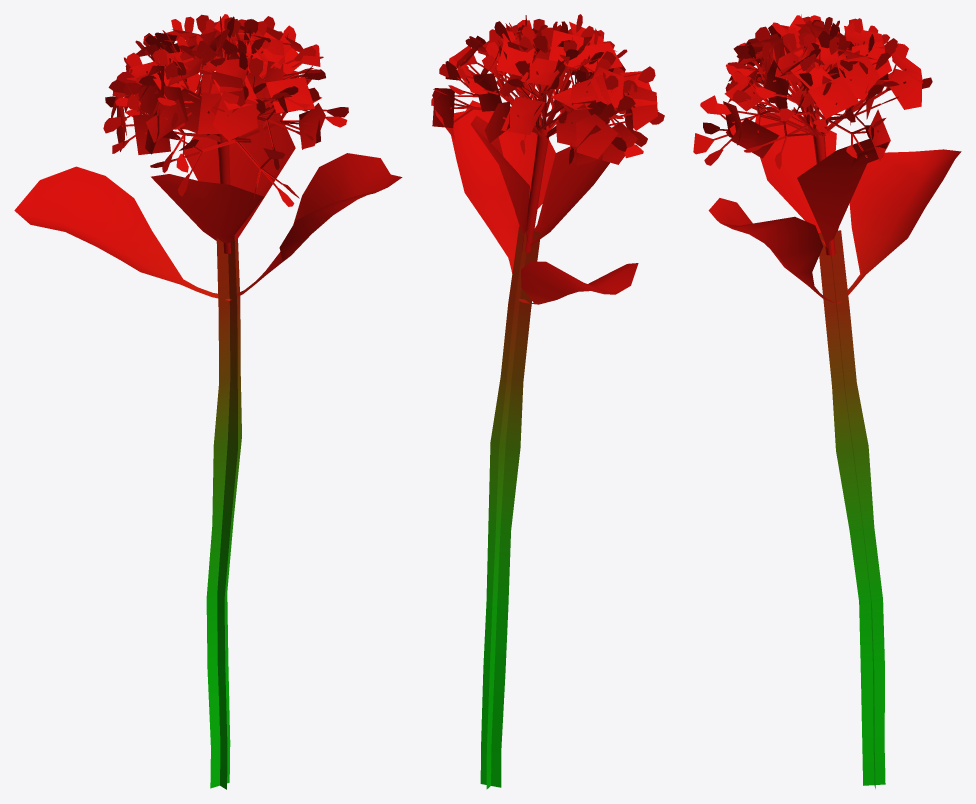
File: Var11_LOD2.fbx
The picture shows the model from 3 angles, left to right: view 1: azimuth 30°, elevation 25°; view 2: azimuth 150°, elevation 25°; view 3: azimuth 270°, elevation 25°; orthographic projection. The views are drawn at different scales.
Visible parts, largest first — view 1: _slki_Var11_LOD2; view 2: _slki_Var11_LOD2; view 3: _slki_Var11_LOD2.
Part boxes in pixels (x1,y1,x2,y2): _slki_Var11_LOD2: [14, 14, 402, 789]; _slki_Var11_LOD2: [431, 14, 664, 789]; _slki_Var11_LOD2: [693, 14, 961, 788].
Bounding box in the file's own units: 16.15 × 45.09 × 14.62.
